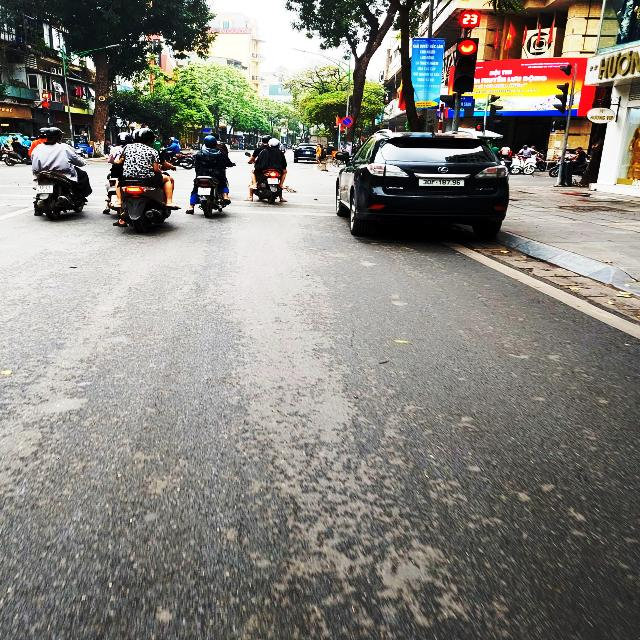license_plate: (418, 178, 467, 189), (35, 186, 56, 195), (197, 187, 213, 197), (267, 179, 281, 186)
